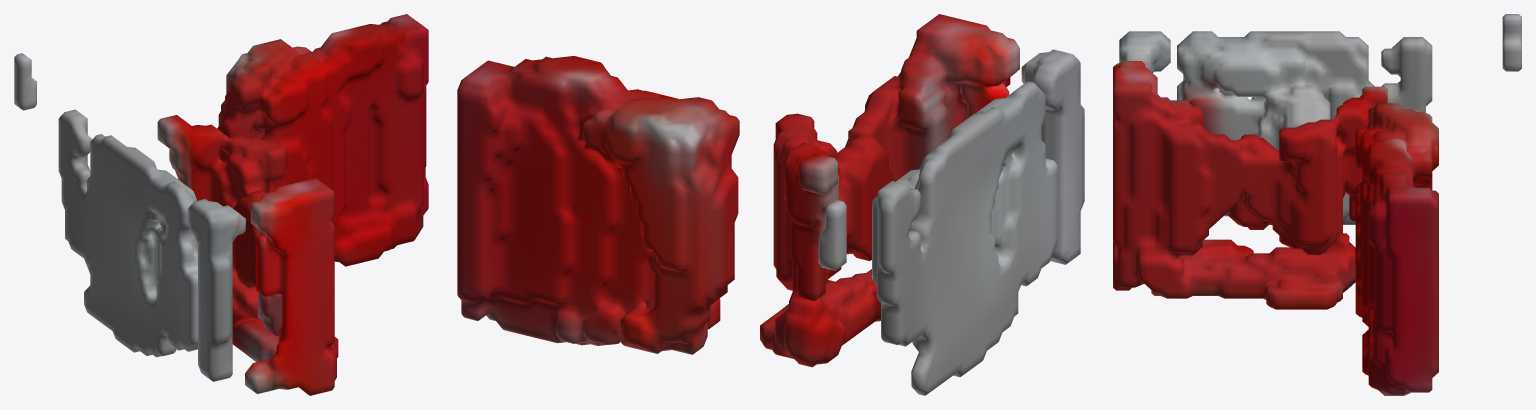
File: 1 chair with red color cover on it from head rest .glb
The picture shows the model from 3 angles, left to right: view 1: azimuth 30°, elevation 25°; view 2: azimuth 150°, elevation 25°; view 3: azimuth 270°, elevation 25°; orthographic projection. The views are drawn at different scales.
Parts seen in each view (by area): view 1: 1 chair with red color cover on it from head rest; view 2: 1 chair with red color cover on it from head rest; view 3: 1 chair with red color cover on it from head rest.
Boxes of the visible parts, box(x1,y1,x2,y2) form: 1 chair with red color cover on it from head rest: box(14, 14, 428, 395); 1 chair with red color cover on it from head rest: box(457, 14, 1084, 395); 1 chair with red color cover on it from head rest: box(1113, 14, 1521, 395).
Size of the model in its own units: 64 by 38 by 64.
